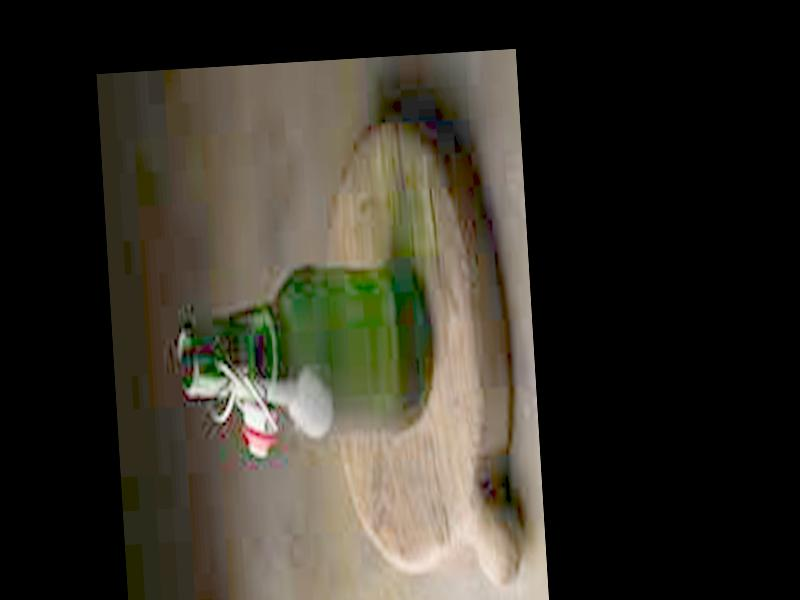Beer: (170, 265, 431, 444)
